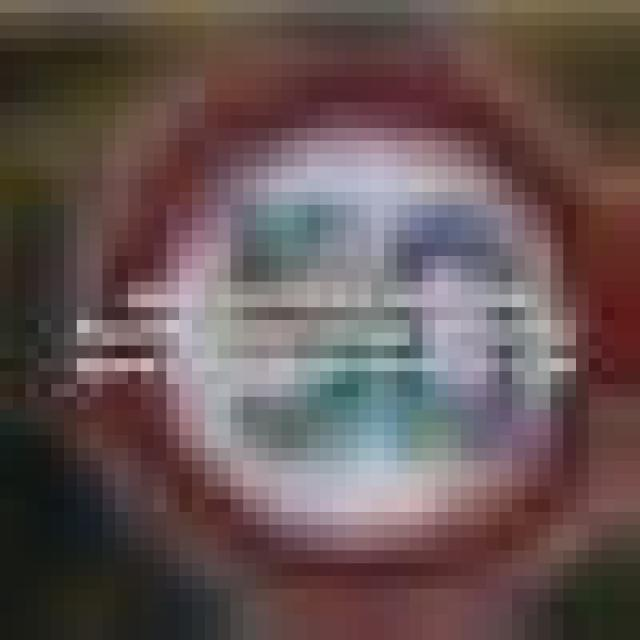speed_limit_30: (51, 51, 589, 563)
